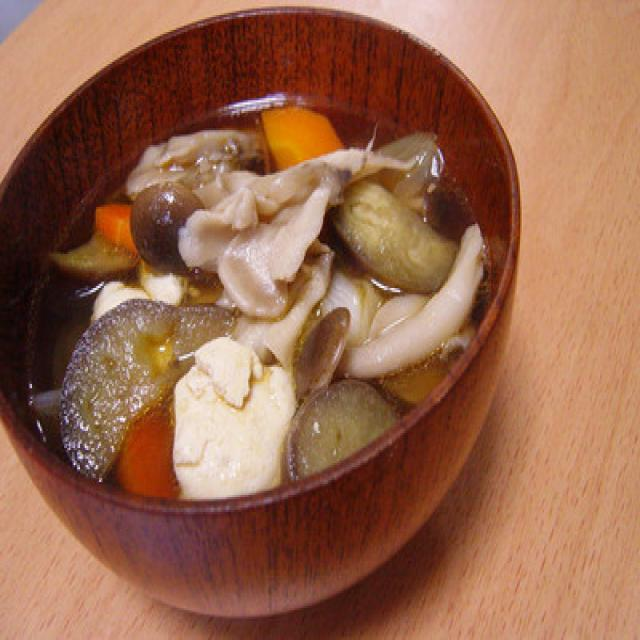蔬菜料理: (0, 27, 528, 618)
